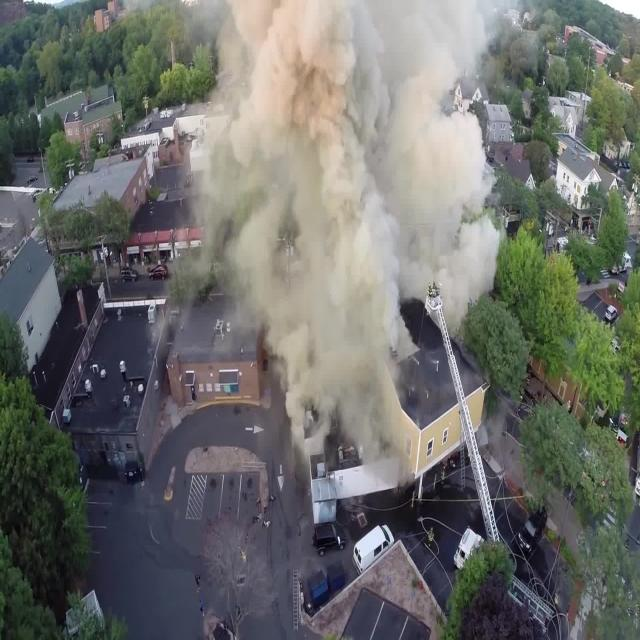smoke: (233, 3, 493, 333), (274, 344, 409, 479)
